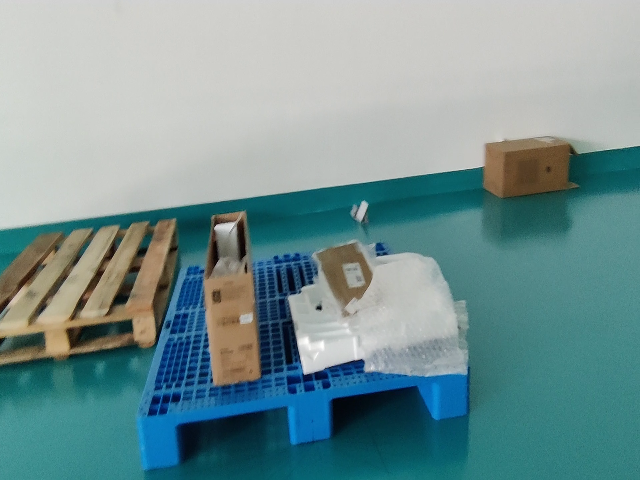block: (135, 416, 180, 472), (291, 390, 332, 448), (435, 375, 471, 423)
front: (134, 374, 470, 473)
hole pallet: (179, 403, 292, 467), (328, 382, 437, 434)
